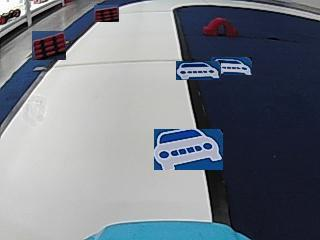bridge: (202, 15, 237, 36)
